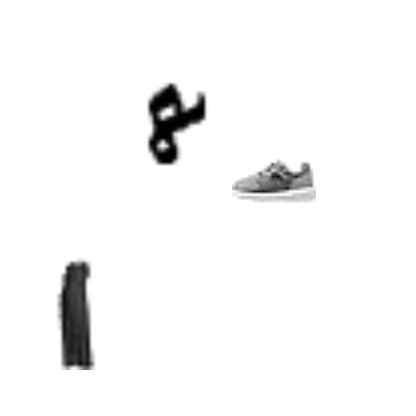8: (113, 64, 225, 176)
Dress: (18, 258, 130, 370)
Sneaker: (232, 139, 316, 223)
